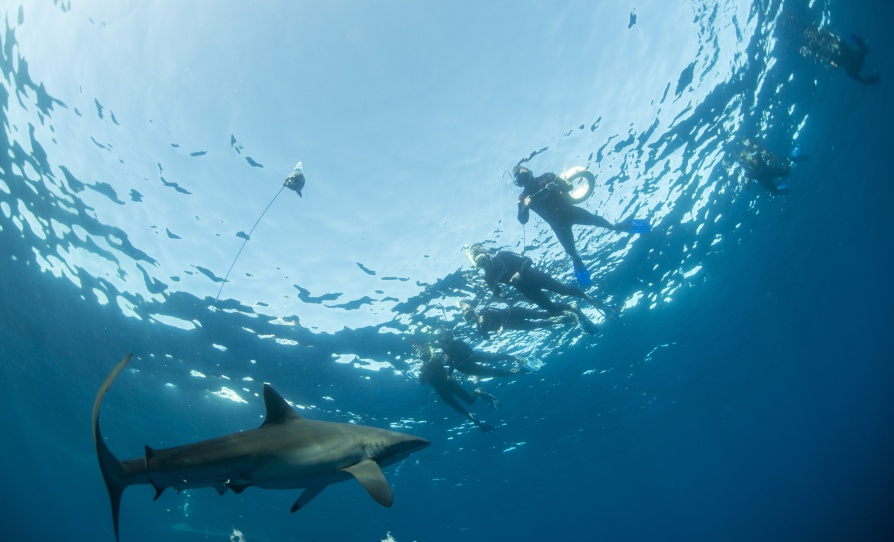Sedoso: (67, 336, 435, 542)
